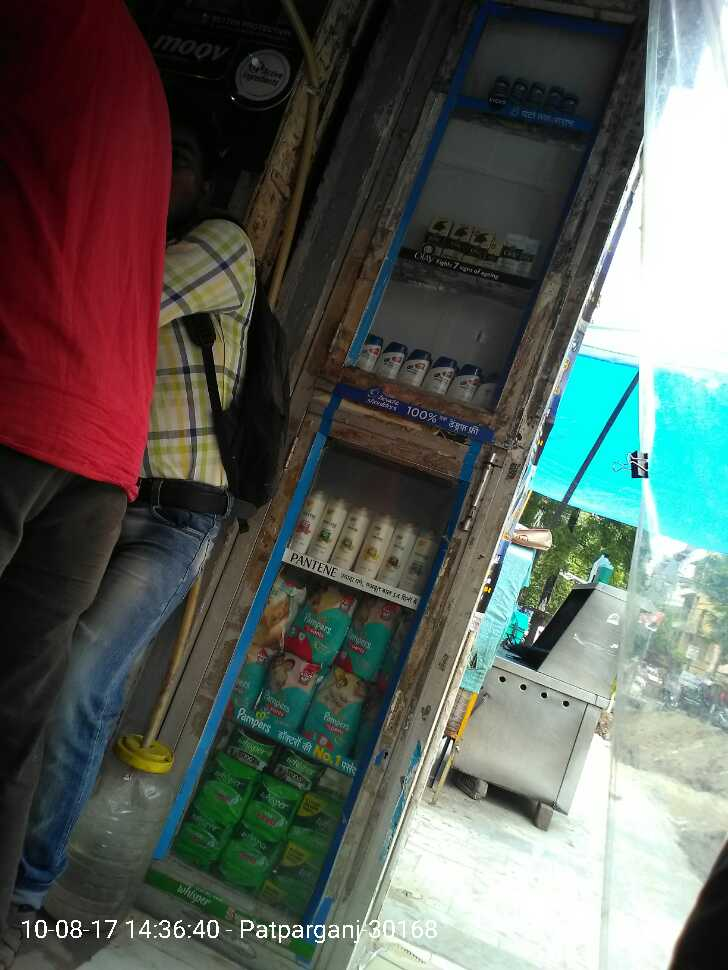beauty: (406, 214, 550, 266), (243, 655, 323, 739), (317, 666, 376, 756), (303, 492, 351, 571), (289, 587, 340, 660), (216, 819, 266, 892), (386, 513, 431, 594), (345, 593, 386, 679), (440, 342, 494, 407), (349, 327, 408, 383), (394, 337, 450, 396), (244, 766, 299, 826), (203, 748, 252, 814), (178, 797, 227, 863), (264, 840, 311, 905), (336, 499, 375, 576), (364, 509, 399, 589), (252, 746, 319, 785), (299, 776, 334, 844), (231, 719, 273, 768), (291, 482, 315, 560), (312, 772, 354, 802)
